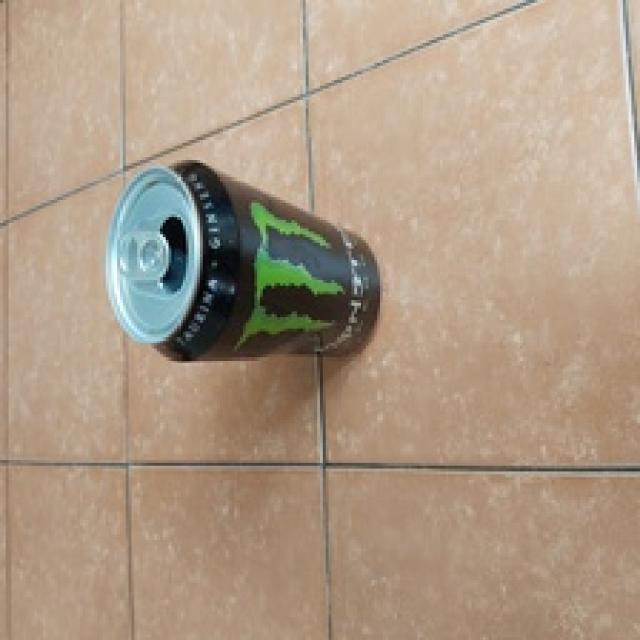recyclable: (105, 159, 381, 360)
